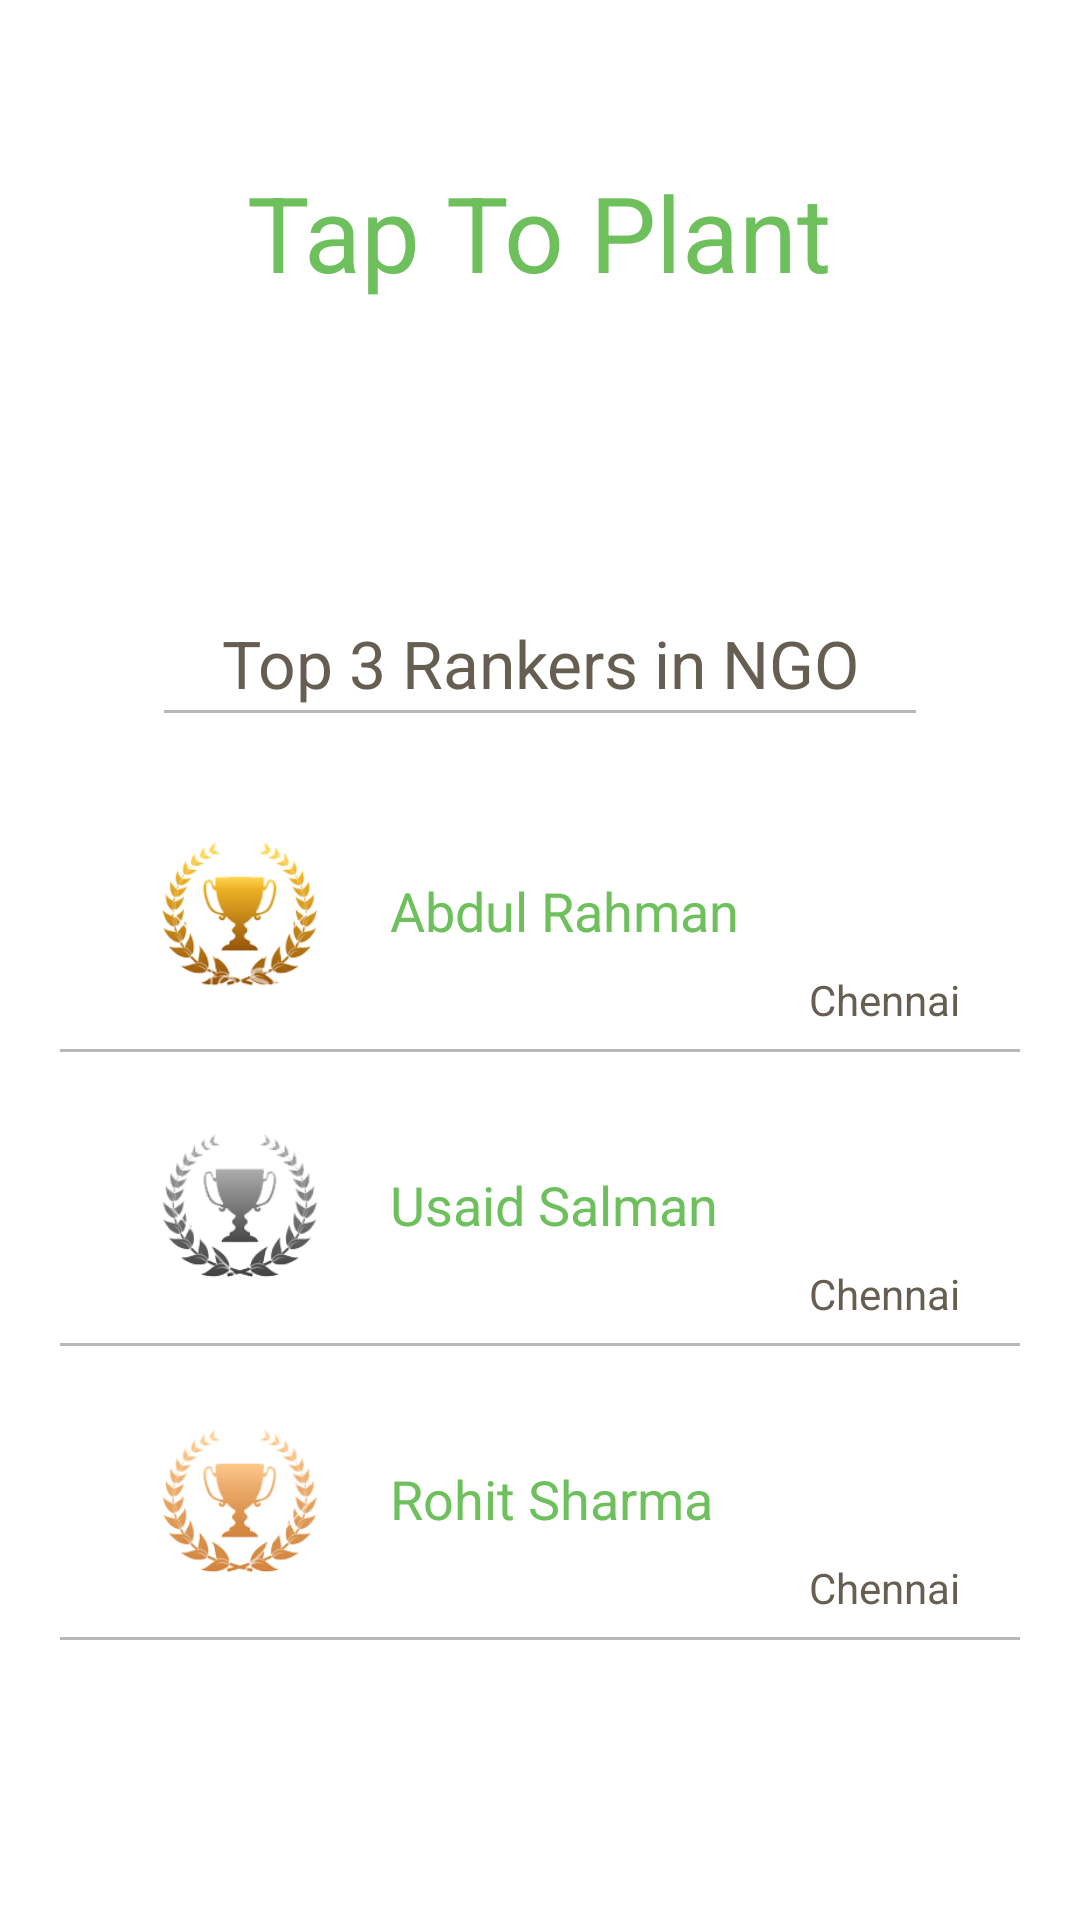

Named icons in this screenshot (1080w x 1920h) and their centers, (x,y):
gold: (240,914)
